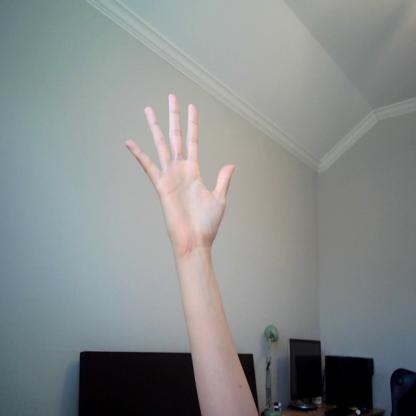five: (124, 88, 237, 250)
